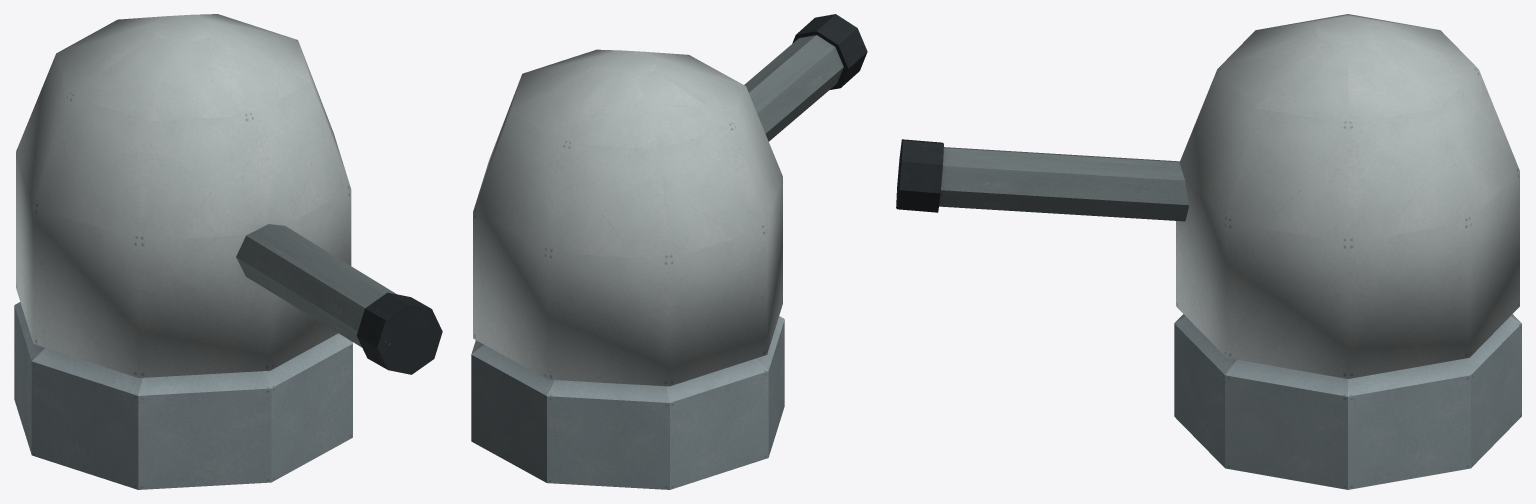
File: cruiser_ciws_source.glb
3 views of the same model, side by side, from view 1: azimuth 30°, elevation 25°; view 2: azimuth 150°, elevation 25°; view 3: azimuth 270°, elevation 25° (orthographic). The views are drawn at different scales.
Parts seen in each view (by area): view 1: MESH_SLAVA_TEMPLATE_ciws.003; view 2: MESH_SLAVA_TEMPLATE_ciws.003; view 3: MESH_SLAVA_TEMPLATE_ciws.003.
Boxes of the visible parts, x1,y1,x2,y2 form: MESH_SLAVA_TEMPLATE_ciws.003: (14,14,442,489); MESH_SLAVA_TEMPLATE_ciws.003: (471,14,867,489); MESH_SLAVA_TEMPLATE_ciws.003: (896,14,1521,489).
Size of the model in its own units: 1.86 by 2.28 by 3.35.
1 material, 1 textured.
